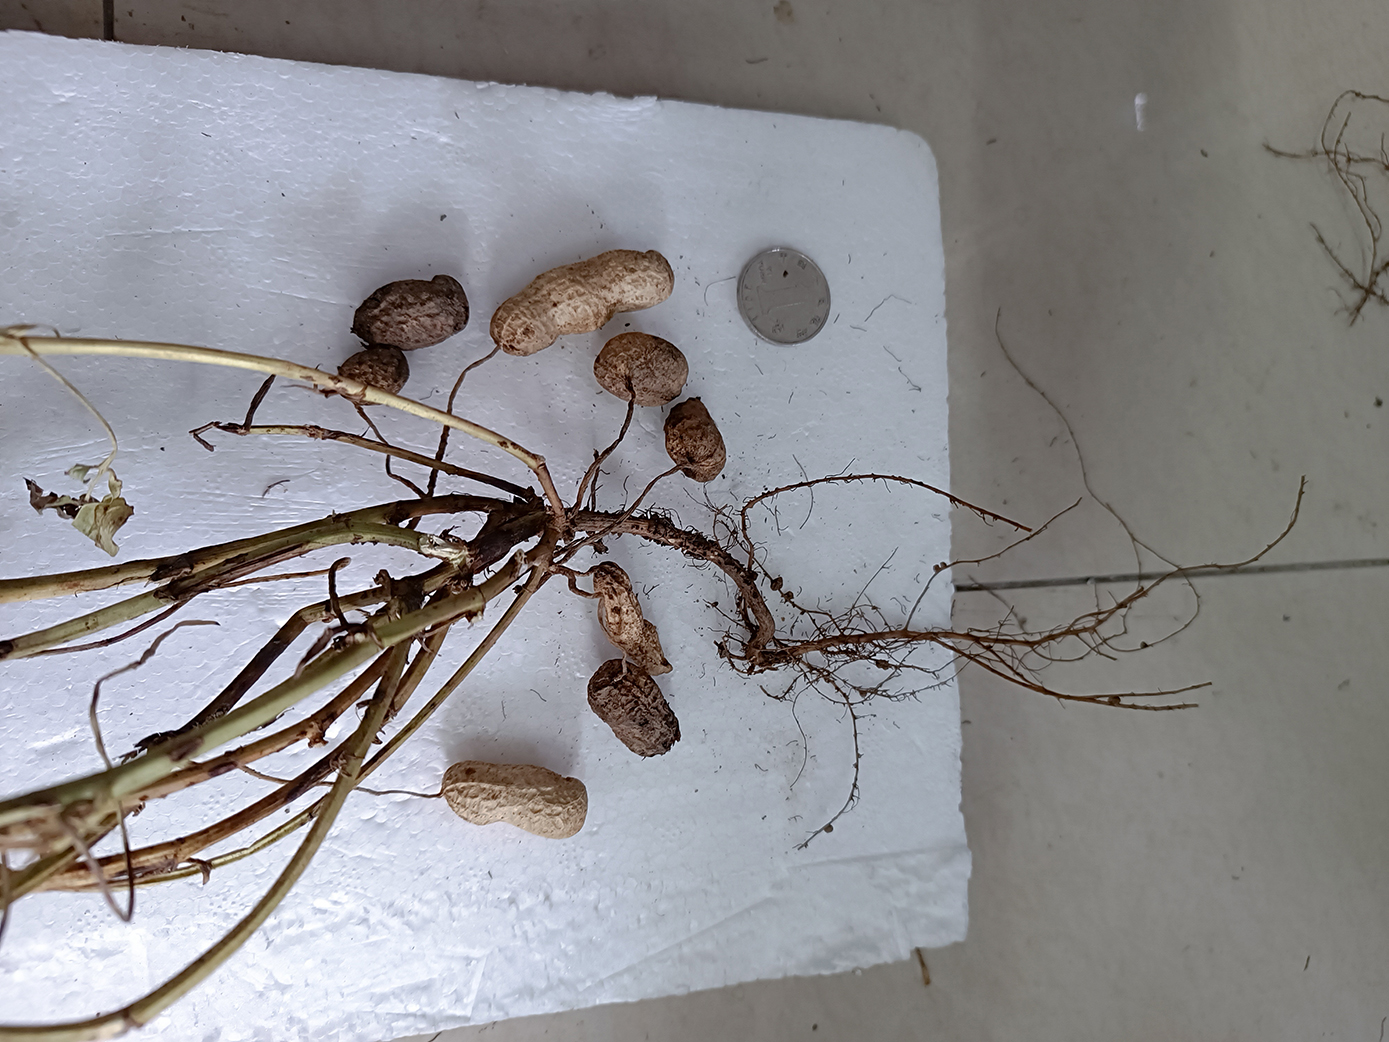h: (490, 250, 675, 355), (443, 762, 588, 835)
l: (595, 564, 676, 675), (356, 273, 470, 348), (589, 661, 679, 755), (595, 335, 686, 402), (665, 401, 727, 482), (342, 349, 410, 400)
